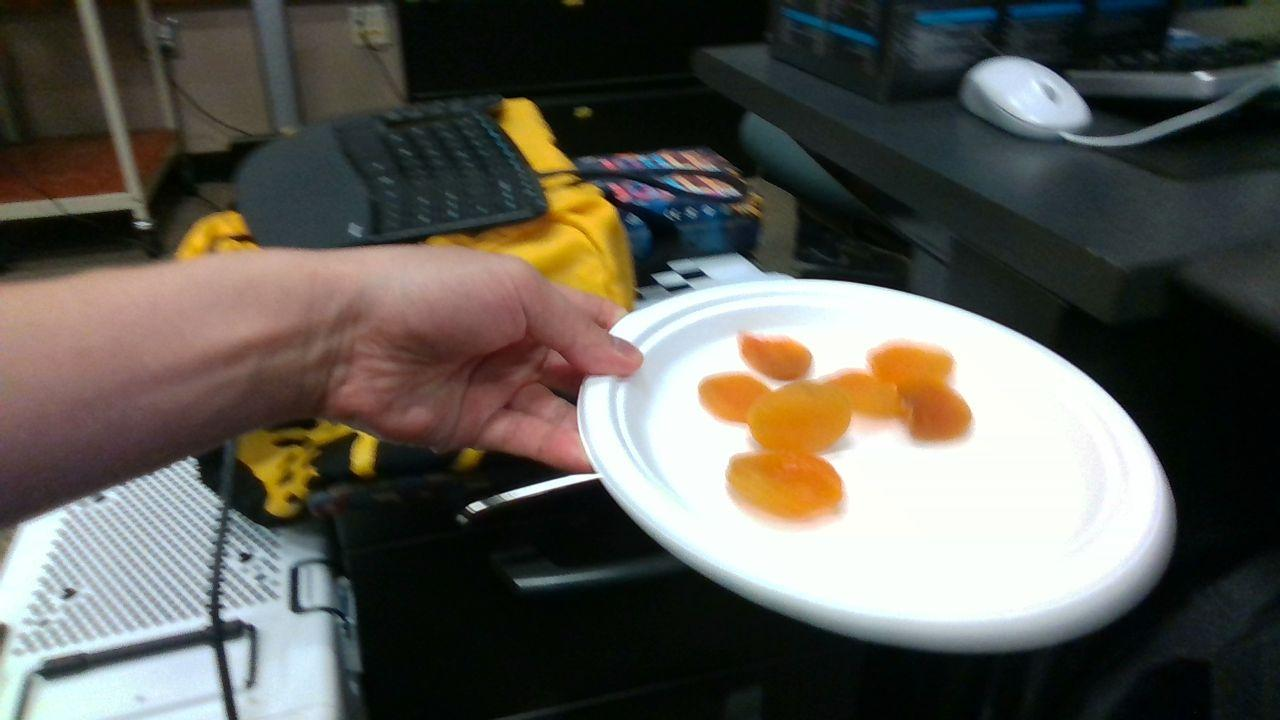apricot: (729, 451, 844, 516), (751, 383, 851, 450), (896, 384, 973, 442), (701, 373, 772, 424), (871, 344, 956, 386), (830, 372, 908, 417), (743, 338, 812, 378)
plate: (581, 279, 1176, 650)
